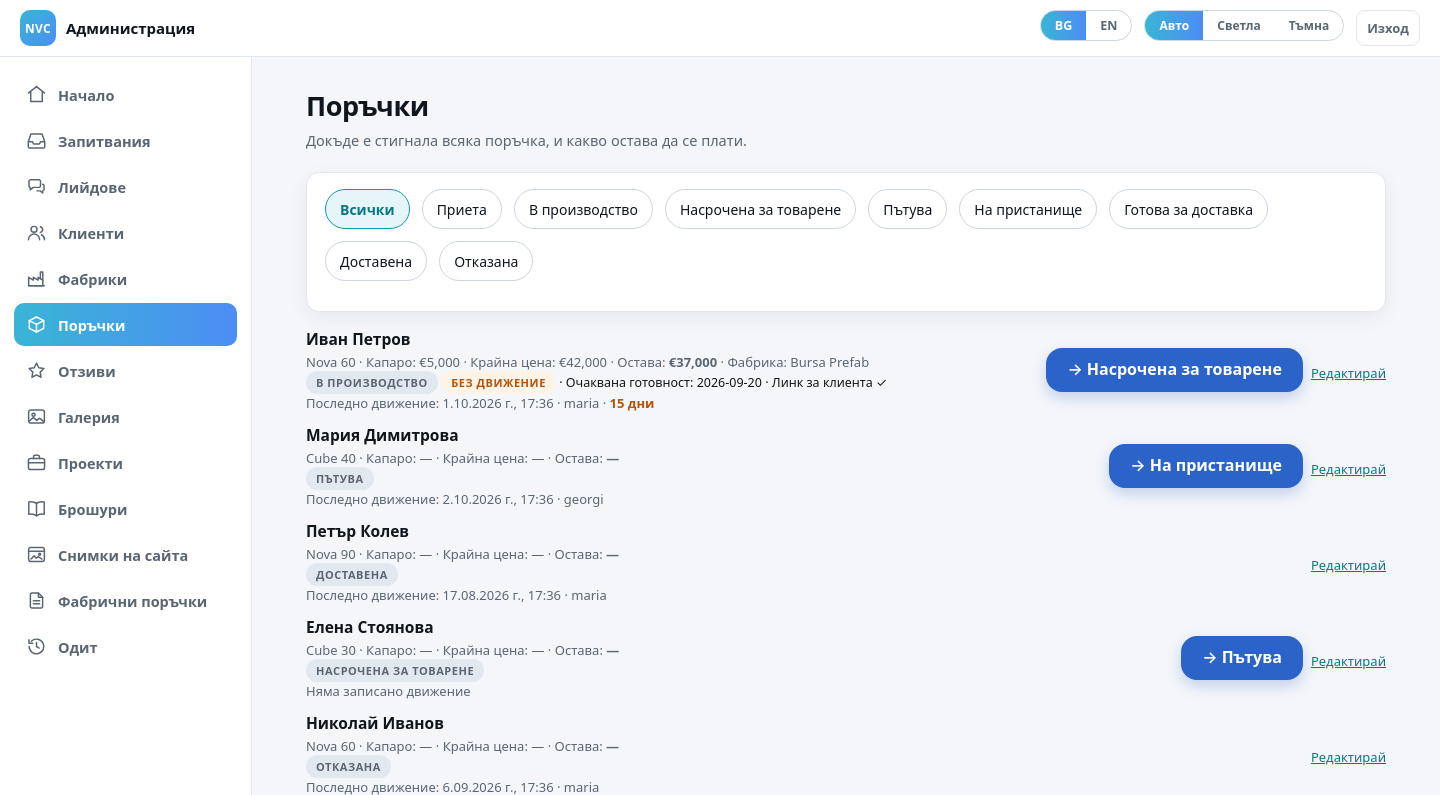
Test case: AdminOrdersPage › puts the status back and says so when a move fails
Check: the text "Иван Петров" is shown, box [306,328,411,350]
Click the button with aria-label "Премести на: Насрочена за товарене". click: (1175, 370)
box: [1046,348,1303,392]
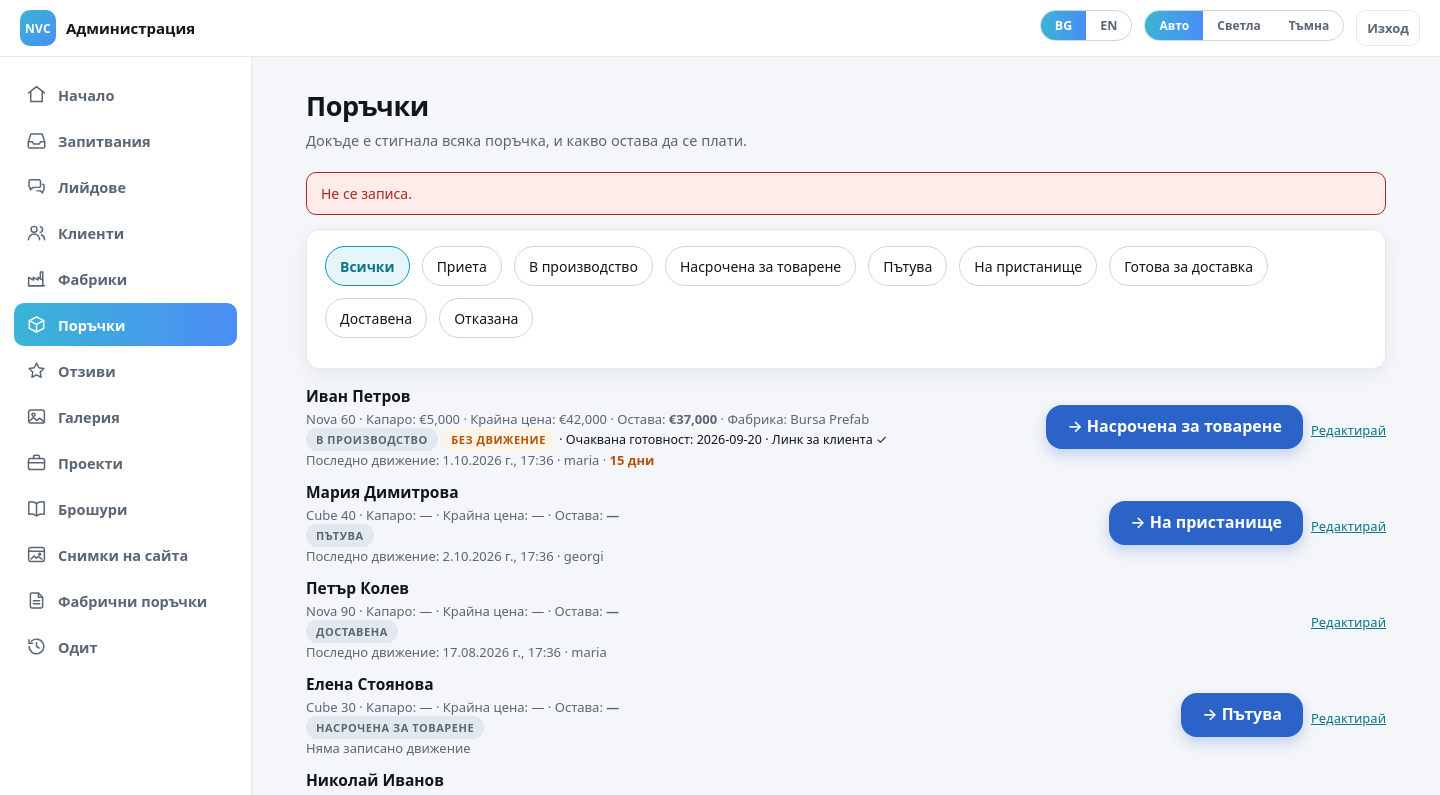
Check: the text "В производство" is shown, box [306,428,438,451]
Check: the text "Не се записа." is shown, box [306,172,1386,215]
